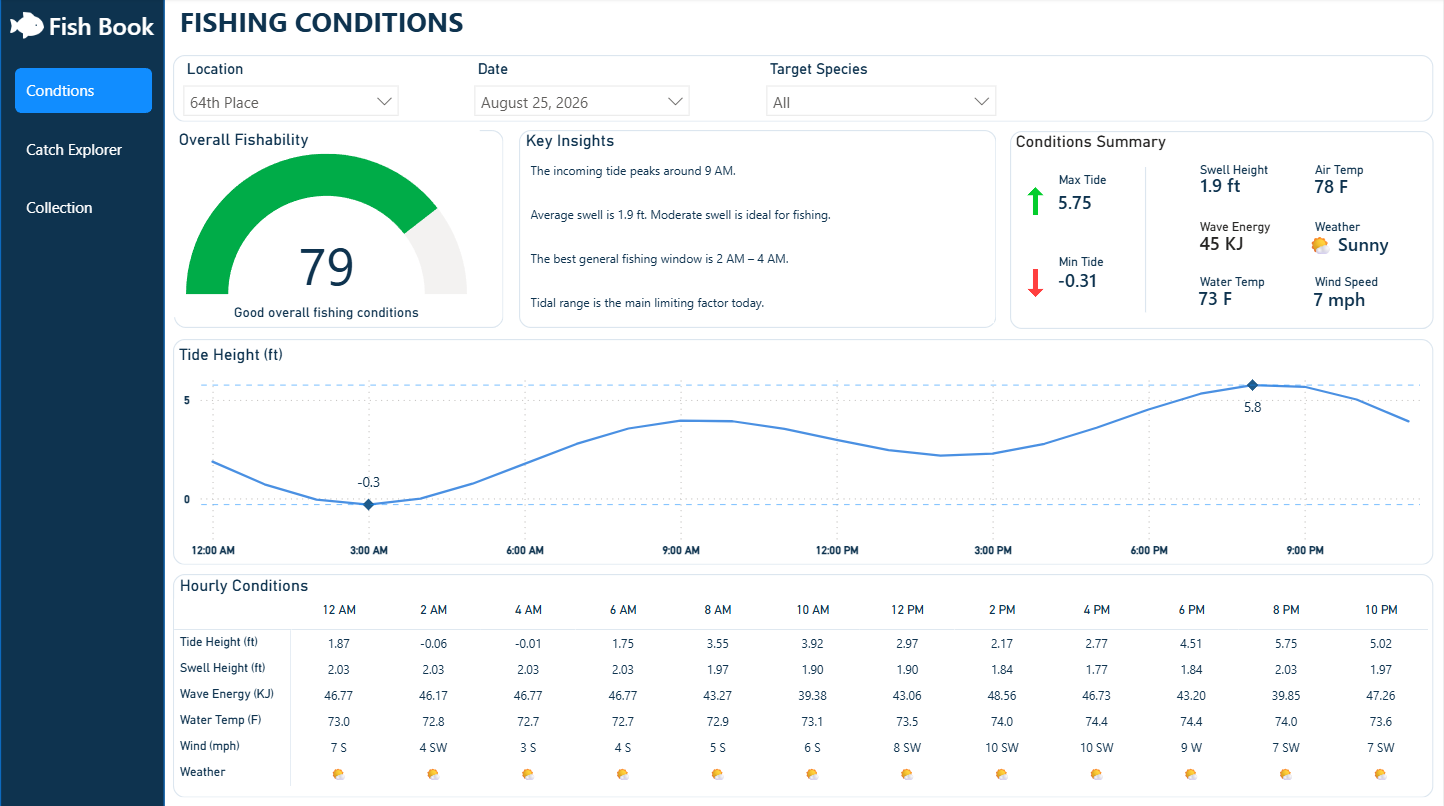

The page's visual inventory and layout, read from the dashboard file:
{"tool":"powerbi","page":{"name":"Conditions","canvas":[1280,720],"ordinal":0},"visuals":[{"type":"shape","box":[154.4,116.7,292.2,175.6],"z":0},{"type":"shape","box":[460,117.8,423.3,175.6],"z":0,"group":"g1"},{"type":"shape","box":[0,0,146,720],"z":1000},{"type":"cardVisual","fields":{"Data":["measures_.Tide Insight","measures_.Swell Insight","measures_.Best Window Insight","measures_.Weakest Factor Insight"]},"box":[450,131,433.1,162.4],"z":1000,"group":"g1"},{"type":"textbox","box":[38.5,4,110.5,42.5],"z":2000},{"type":"textbox","box":[460.8,112.9,215.9,34],"z":2000,"group":"g1"},{"type":"shape","box":[153.7,50.6,1117.6,59.3],"z":3000},{"type":"textbox","box":[154.5,4.5,270.7,32.7],"z":4000},{"type":"slicer","fields":{"Values":["Location.LocationName"]},"box":[152.7,50.6,211.1,56.4],"z":5000},{"type":"shape","box":[895.6,117.8,375.6,175.6],"z":6000},{"type":"shape","box":[153.7,302.5,1117.6,200.4],"z":7000},{"type":"shape","box":[153.7,510.6,1117.6,198.4],"z":8000},{"type":"slicer","fields":{"Values":["Conditions.ConditionDate"]},"box":[410.9,50.6,211.1,56.4],"z":9000},{"type":"slicer","fields":{"Values":["Species.Common Name"]},"box":[669.2,50.6,223.7,56.4],"z":10000},{"type":"areaChart","title":"Tide Height (ft)","fields":{"Y":["Conditions.Tide Height","Conditions.High Tide Point","Conditions.Low Tide Point"],"Category":["Conditions.DateTime"]},"box":[153.7,303.5,1117.6,200.4],"z":11000},{"type":"pivotTable","fields":{"Values":["Max(Conditions.TideHeightFt)","Max(Conditions.SwellHeightFt)","Max(Conditions.WaveEnergyKJ)","Max(Conditions.WaterTempF)","Conditions.Wind Display","Conditions.Weather Icon"],"Columns":["Conditions.HourLabel2Hr"]},"box":[153.7,527.2,1118.5,186.7],"z":12000},{"type":"textbox","box":[154,507,168,34],"z":13000},{"type":"actionButton","box":[13.2,62.5,121.6,39.9],"z":14000},{"type":"actionButton","box":[13.2,114,121.6,39.9],"z":15000},{"type":"actionButton","box":[13.2,165.6,121.6,39.9],"z":16000},{"type":"cardVisual","fields":{"Data":["Conditions.Debug Min Tide"]},"box":[908.8,214.6,116.7,69.1],"z":17000},{"type":"cardVisual","fields":{"Data":["Conditions.Debug Max Tide"]},"box":[908.8,145.6,116.7,69.1],"z":18000},{"type":"textbox","box":[895.6,113.3,215.6,33.3],"z":19000},{"type":"shape","box":[910.6,167.9,15,25],"z":20000},{"type":"shape","box":[910.4,240.2,15,25],"z":21000},{"type":"textbox","box":[933.4,146.7,72,34],"z":22000},{"type":"textbox","box":[933.4,218.7,72,34],"z":23000},{"type":"shape","box":[1000,150,31.1,128.9],"z":24000},{"type":"cardVisual","fields":{"Data":["Conditions.Avg Swell Height Display"]},"box":[1045.5,132.6,112,64],"z":25000},{"type":"cardVisual","fields":{"Data":["Conditions.Avg Wave Energy Display"]},"box":[1044.5,186.6,114,58],"z":26000},{"type":"cardVisual","fields":{"Data":["Conditions.Avg Water Temp Display"]},"box":[1044.5,234.6,114,58],"z":27000},{"type":"cardVisual","fields":{"Data":["Conditions.Avg Air Temp Display"]},"box":[1147.8,133.3,112.2,64.4],"z":28000},{"type":"cardVisual","fields":{"Data":["Conditions.Dominant Weather Display"]},"box":[1142.2,187.8,114.4,57.8],"z":29000},{"type":"cardVisual","fields":{"Data":["Conditions.Avg Wind Speed Display"]},"box":[1146.5,235.6,114,58],"z":30000},{"type":"gauge","fields":{"Y":["measures_.Fishing Score Display"]},"box":[153,116.9,272.2,165.6],"z":31000},{"type":"cardVisual","fields":{"Data":["measures_.Fishing Score Subtitle"]},"box":[153.3,257.8,272.2,38.9],"z":32000},{"type":"textbox","box":[1058.9,137.7,78.9,34.4],"z":33000},{"type":"textbox","box":[1058.9,187.7,78.9,33.3],"z":34000},{"type":"textbox","box":[1058.9,236.6,78.9,34.4],"z":35000},{"type":"textbox","box":[1161.1,137.7,80,34.4],"z":36000},{"type":"textbox","box":[1161.1,187.7,78.9,33.3],"z":37000},{"type":"textbox","box":[1161.1,236.6,80,34.4],"z":38000},{"type":"image","box":[0,10,47.5,29.5],"z":39000},{"type":"group","id":"g1","title":"Group 1","box":[450,112.9,433.3,180.5],"z":40000}]}

Visuals, with their boxes on the page's 1280x720 design canvas (x1, y1, x2, y2). These are canvas units, not pixel positions in the 1444x806 screenshot, which may show the page scaled, cropped or inside an application window:
shape: locate(154, 117, 447, 292)
shape: locate(460, 118, 883, 293)
shape: locate(0, 0, 146, 720)
cardVisual - measures_.Tide Insight x measures_.Swell Insight: locate(450, 131, 883, 293)
textbox: locate(38, 4, 149, 46)
textbox: locate(461, 113, 677, 147)
shape: locate(154, 51, 1271, 110)
textbox: locate(154, 4, 425, 37)
slicer - Location.LocationName: locate(153, 51, 364, 107)
shape: locate(896, 118, 1271, 293)
shape: locate(154, 302, 1271, 503)
shape: locate(154, 511, 1271, 709)
slicer - Conditions.ConditionDate: locate(411, 51, 622, 107)
slicer - Species.Common Name: locate(669, 51, 893, 107)
"Tide Height (ft)" areaChart: locate(154, 304, 1271, 504)
pivotTable - Max(Conditions.TideHeightFt) x Max(Conditions.SwellHeightFt): locate(154, 527, 1272, 714)
textbox: locate(154, 507, 322, 541)
actionButton: locate(13, 62, 135, 102)
actionButton: locate(13, 114, 135, 154)
actionButton: locate(13, 166, 135, 206)
cardVisual - Conditions.Debug Min Tide: locate(909, 215, 1026, 284)
cardVisual - Conditions.Debug Max Tide: locate(909, 146, 1026, 215)
textbox: locate(896, 113, 1111, 147)
shape: locate(911, 168, 926, 193)
shape: locate(910, 240, 925, 265)
textbox: locate(933, 147, 1005, 181)
textbox: locate(933, 219, 1005, 253)
shape: locate(1000, 150, 1031, 279)
cardVisual - Conditions.Avg Swell Height Display: locate(1046, 133, 1158, 197)
cardVisual - Conditions.Avg Wave Energy Display: locate(1044, 187, 1158, 245)
cardVisual - Conditions.Avg Water Temp Display: locate(1044, 235, 1158, 293)
cardVisual - Conditions.Avg Air Temp Display: locate(1148, 133, 1260, 198)
cardVisual - Conditions.Dominant Weather Display: locate(1142, 188, 1257, 246)
cardVisual - Conditions.Avg Wind Speed Display: locate(1146, 236, 1260, 294)
gauge - measures_.Fishing Score Display: locate(153, 117, 425, 282)
cardVisual - measures_.Fishing Score Subtitle: locate(153, 258, 426, 297)
textbox: locate(1059, 138, 1138, 172)
textbox: locate(1059, 188, 1138, 221)
textbox: locate(1059, 237, 1138, 271)
textbox: locate(1161, 138, 1241, 172)
textbox: locate(1161, 188, 1240, 221)
textbox: locate(1161, 237, 1241, 271)
image: locate(0, 10, 48, 40)
"Group 1" group: locate(450, 113, 883, 293)
